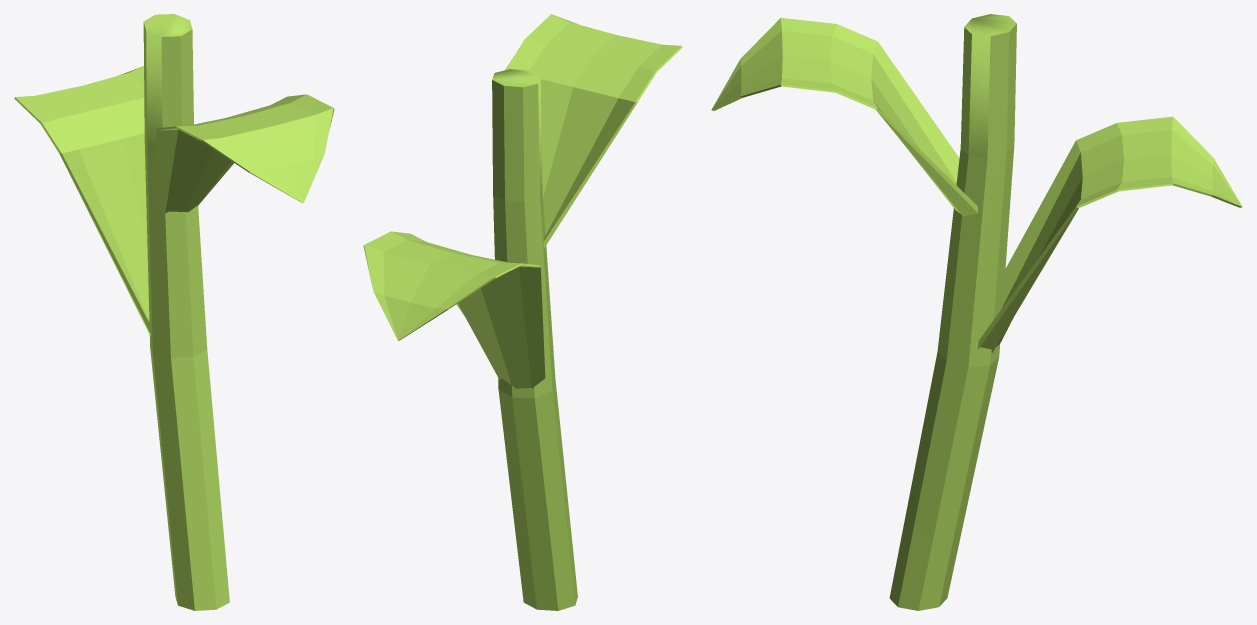
Rendered from tulip_s2.fbx.
3 renders of one model, left to right at view 1: azimuth 30°, elevation 25°; view 2: azimuth 150°, elevation 25°; view 3: azimuth 270°, elevation 25°, orthographic. The views are drawn at different scales.
Parts seen in each view (by area): view 1: tulip; view 2: tulip; view 3: tulip.
Boxes of the visible parts, box(x1,y1,x2,y2) form: tulip: box(14, 14, 334, 610); tulip: box(363, 14, 682, 610); tulip: box(711, 14, 1242, 610).
Size of the model in its own units: 100 by 396 by 331.
